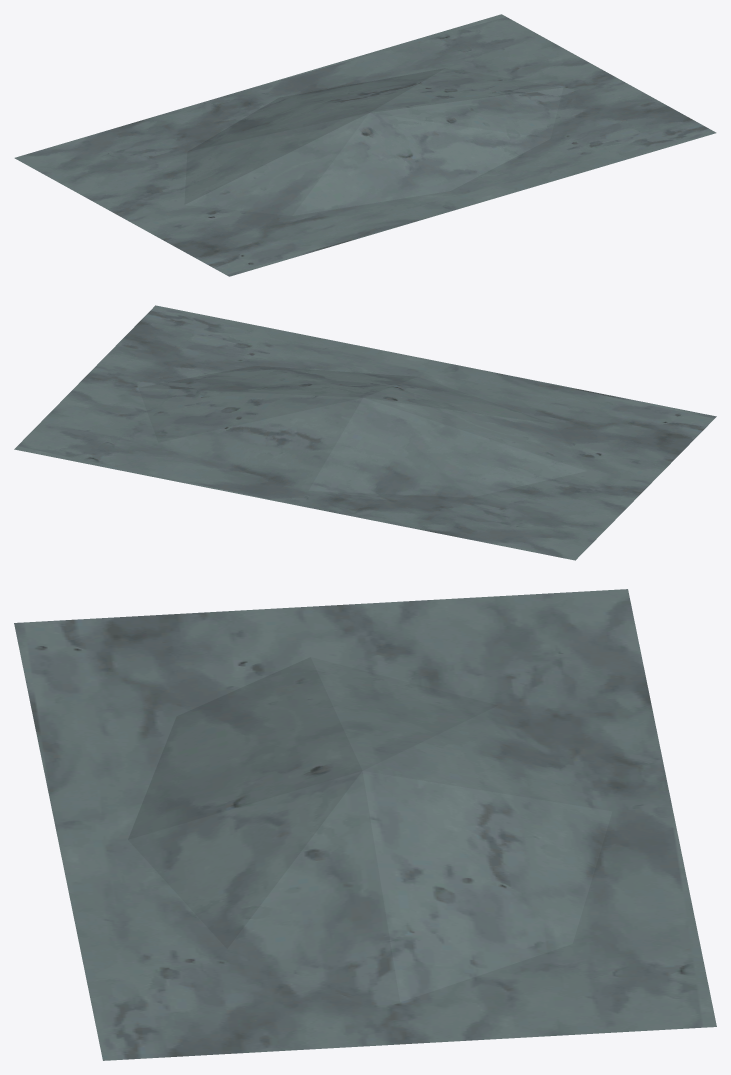
File: snowydecal_04.fbx
3 renders of one model, top to bottom at view 1: azimuth 30°, elevation 25°; view 2: azimuth 150°, elevation 25°; view 3: azimuth 270°, elevation 25°, orthographic. The views are drawn at different scales.
Visible parts, largest first — view 1: obj0.076; view 2: obj0.076; view 3: obj0.076.
Part boxes in pixels (box(x1,y1,x2,y2)): obj0.076: box(14, 14, 716, 276); obj0.076: box(14, 305, 716, 560); obj0.076: box(14, 589, 716, 1060).
Size of the model in its own units: 11.48 by 0.644 by 7.23.
